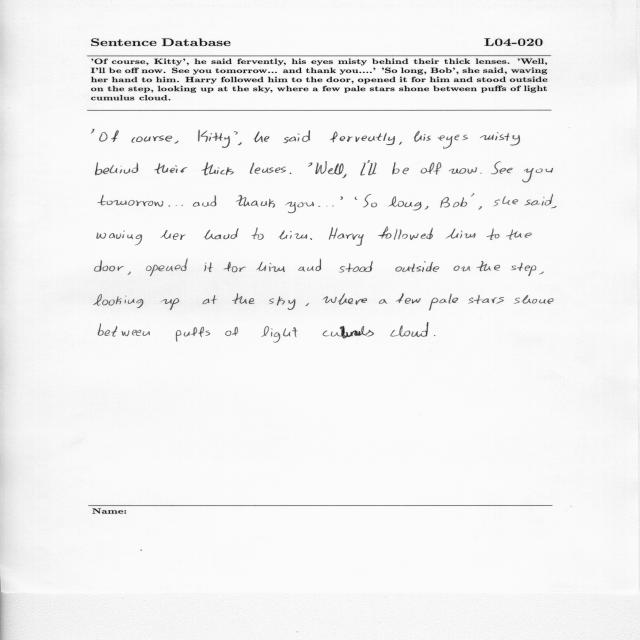word: (330, 132, 395, 145), (98, 195, 163, 207), (98, 323, 150, 337), (378, 227, 433, 240), (146, 259, 188, 276), (93, 294, 144, 308), (97, 231, 142, 246), (329, 227, 364, 246), (323, 326, 374, 339), (262, 326, 298, 343), (96, 162, 138, 176), (198, 130, 230, 148), (391, 322, 429, 337), (480, 132, 520, 146), (388, 196, 422, 211), (176, 327, 210, 342), (236, 195, 275, 208), (429, 294, 458, 311), (395, 261, 439, 272), (323, 294, 367, 305), (201, 162, 234, 176), (437, 135, 468, 149), (522, 168, 553, 182), (250, 163, 286, 174), (316, 161, 344, 175), (204, 228, 239, 239), (269, 296, 296, 310), (154, 163, 188, 174), (339, 261, 373, 272), (513, 295, 554, 304), (283, 131, 310, 144), (524, 194, 553, 206), (95, 260, 124, 272), (446, 228, 476, 239), (511, 263, 536, 276), (468, 295, 504, 304), (286, 202, 314, 213), (440, 197, 467, 208), (256, 262, 285, 272), (193, 195, 217, 207), (132, 136, 173, 143), (491, 162, 513, 175), (506, 229, 532, 240), (298, 259, 321, 271), (396, 293, 421, 304), (421, 162, 442, 175), (279, 231, 308, 240), (160, 230, 186, 240), (360, 161, 377, 176), (232, 293, 255, 304), (493, 196, 518, 206), (99, 130, 119, 142), (476, 261, 500, 271), (223, 262, 246, 272), (392, 162, 409, 175), (161, 298, 179, 310), (449, 167, 477, 174), (414, 131, 431, 142), (251, 227, 264, 240), (254, 132, 269, 143), (487, 228, 500, 240), (203, 295, 217, 304), (225, 327, 238, 336), (363, 194, 371, 207), (454, 266, 471, 272), (204, 262, 213, 272), (379, 299, 388, 304), (318, 205, 334, 207), (169, 205, 184, 207), (371, 203, 377, 207), (91, 129, 95, 134), (308, 162, 312, 167), (342, 174, 347, 178), (234, 131, 238, 135), (425, 206, 429, 210), (471, 193, 475, 197), (478, 206, 482, 210), (539, 272, 544, 275), (175, 141, 179, 144), (238, 142, 242, 145), (340, 196, 343, 200), (551, 206, 557, 208), (305, 303, 309, 306), (399, 142, 402, 145), (355, 197, 358, 200), (128, 272, 131, 275), (310, 238, 312, 240), (290, 173, 292, 174), (480, 173, 482, 174), (434, 335, 436, 336)
